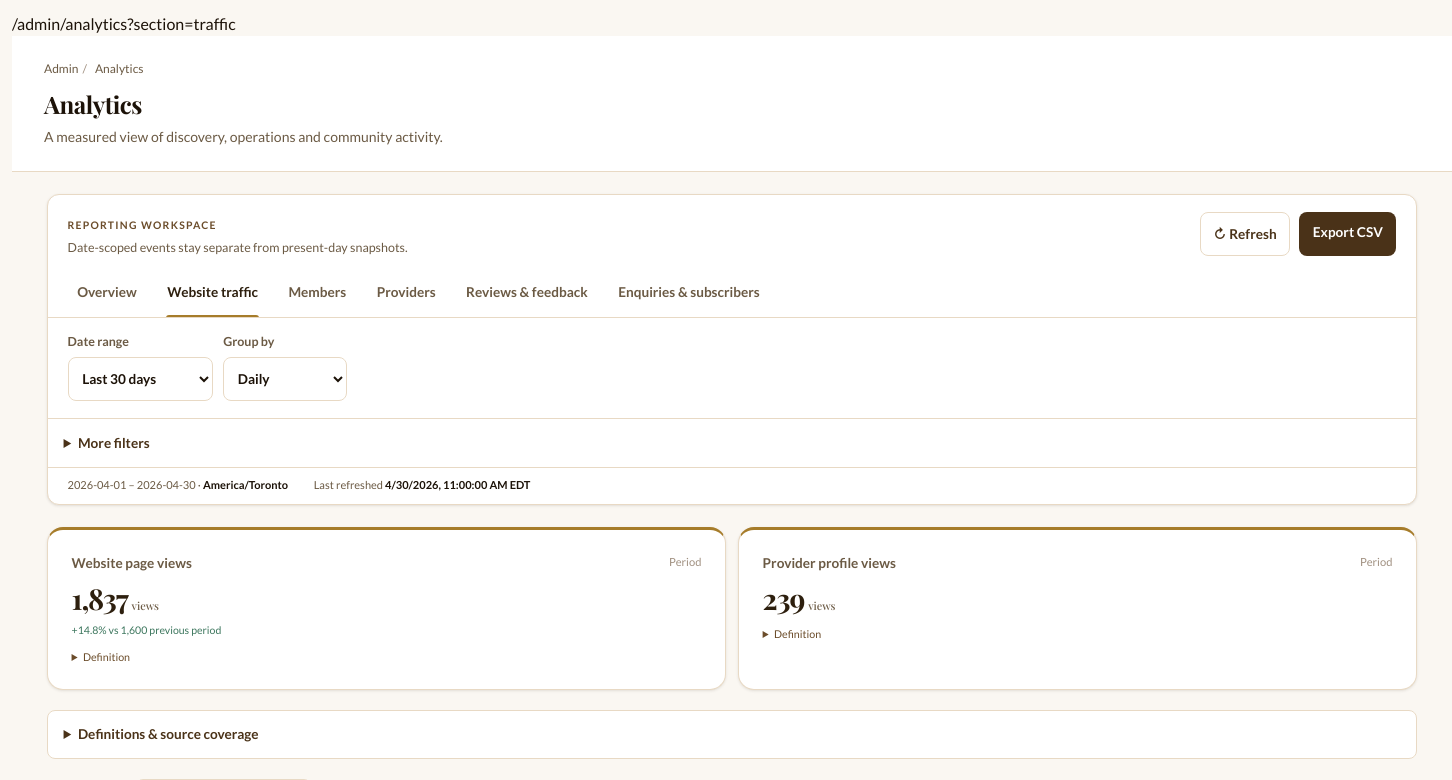
Scenario: AnalyticsPage › recovers from a failed CSV export when the same export is retried
Expected: the text "1,837" is shown, x1=72 y1=579 x2=128 y2=617
Click the heading "Export CSV" at (1348, 234), box x1=1299 y1=212 x2=1396 y2=256
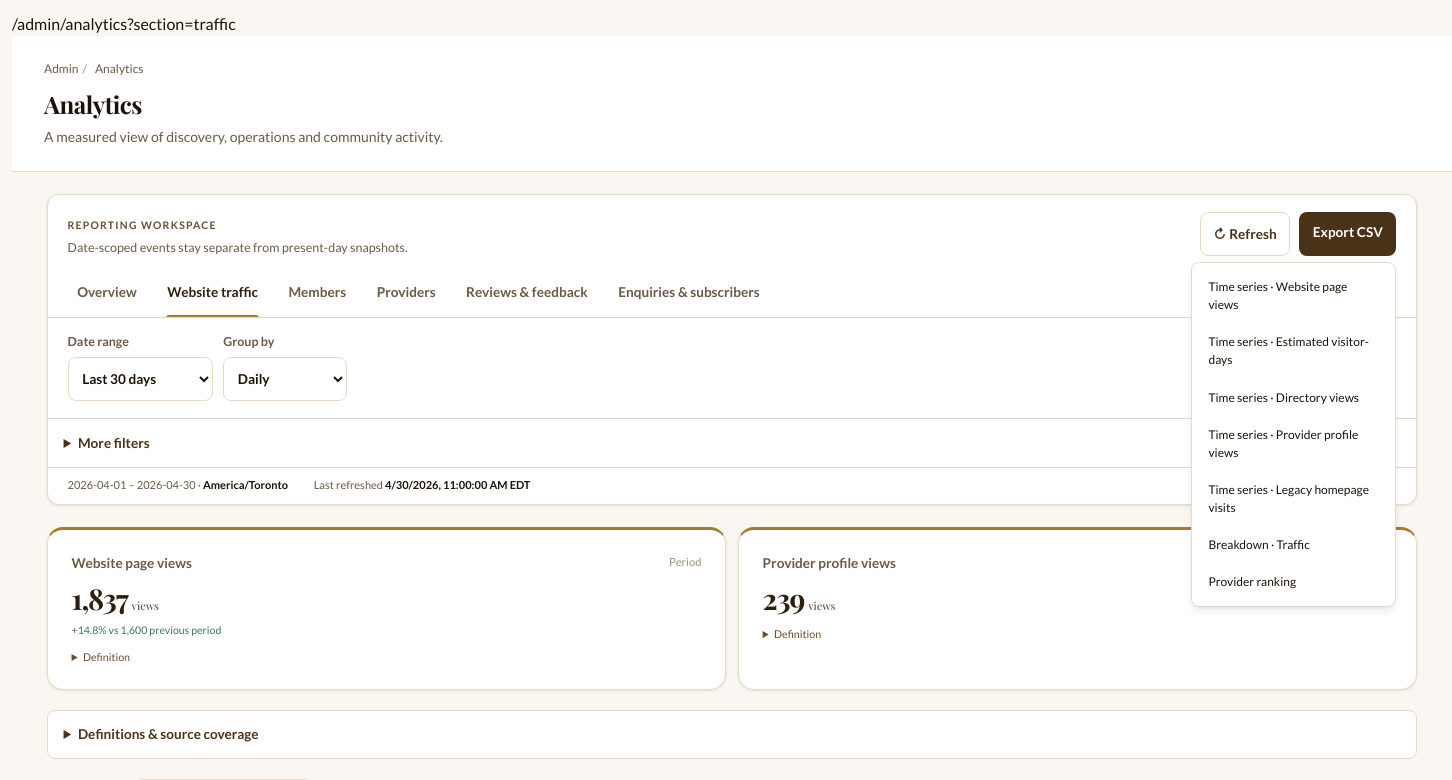
Click the button "Time series · Website page views" at (1294, 296), box x1=1198 y1=268 x2=1390 y2=324
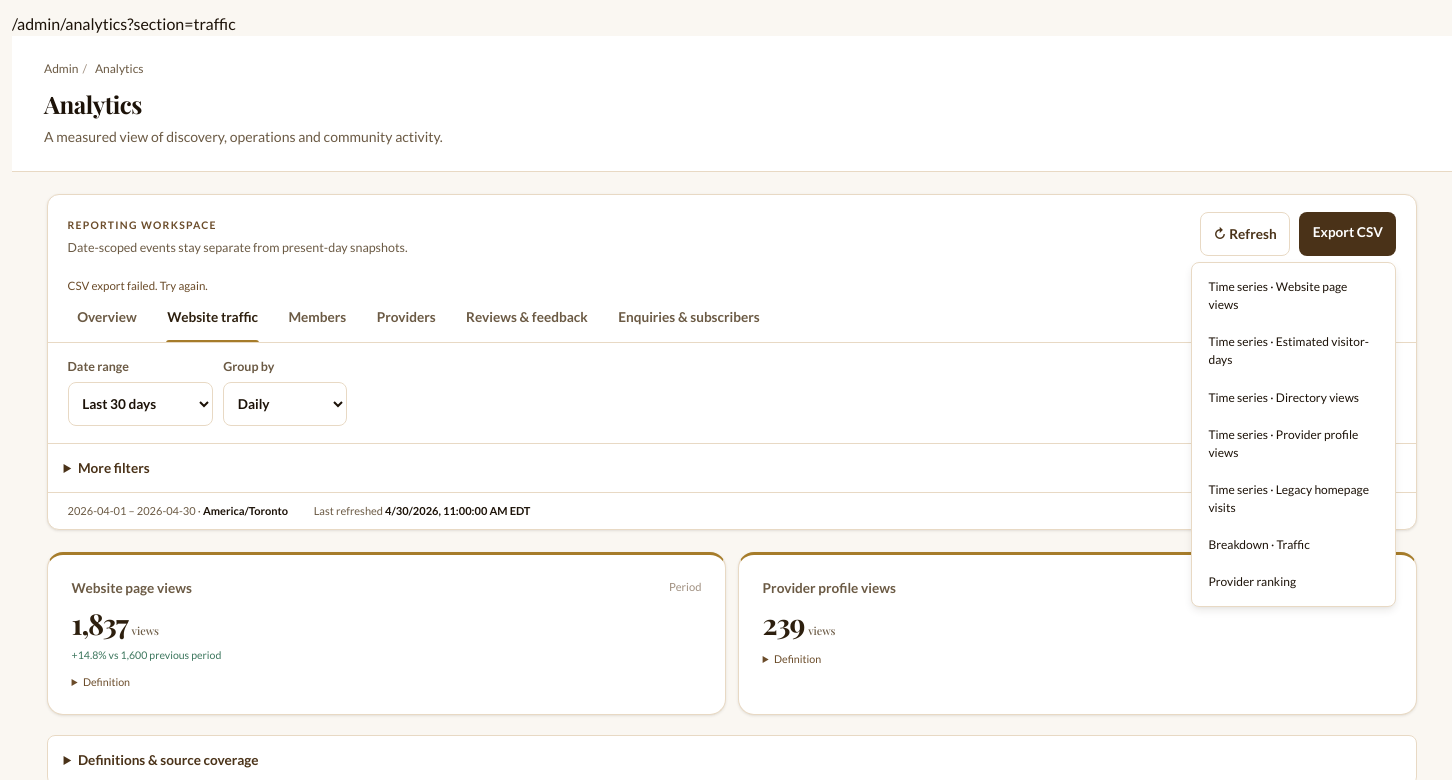
Now the text "CSV export failed. Try again." is shown, box x1=68 y1=279 x2=208 y2=292
Click the button "Time series · Website page views" at (1294, 296), box x1=1198 y1=268 x2=1390 y2=324
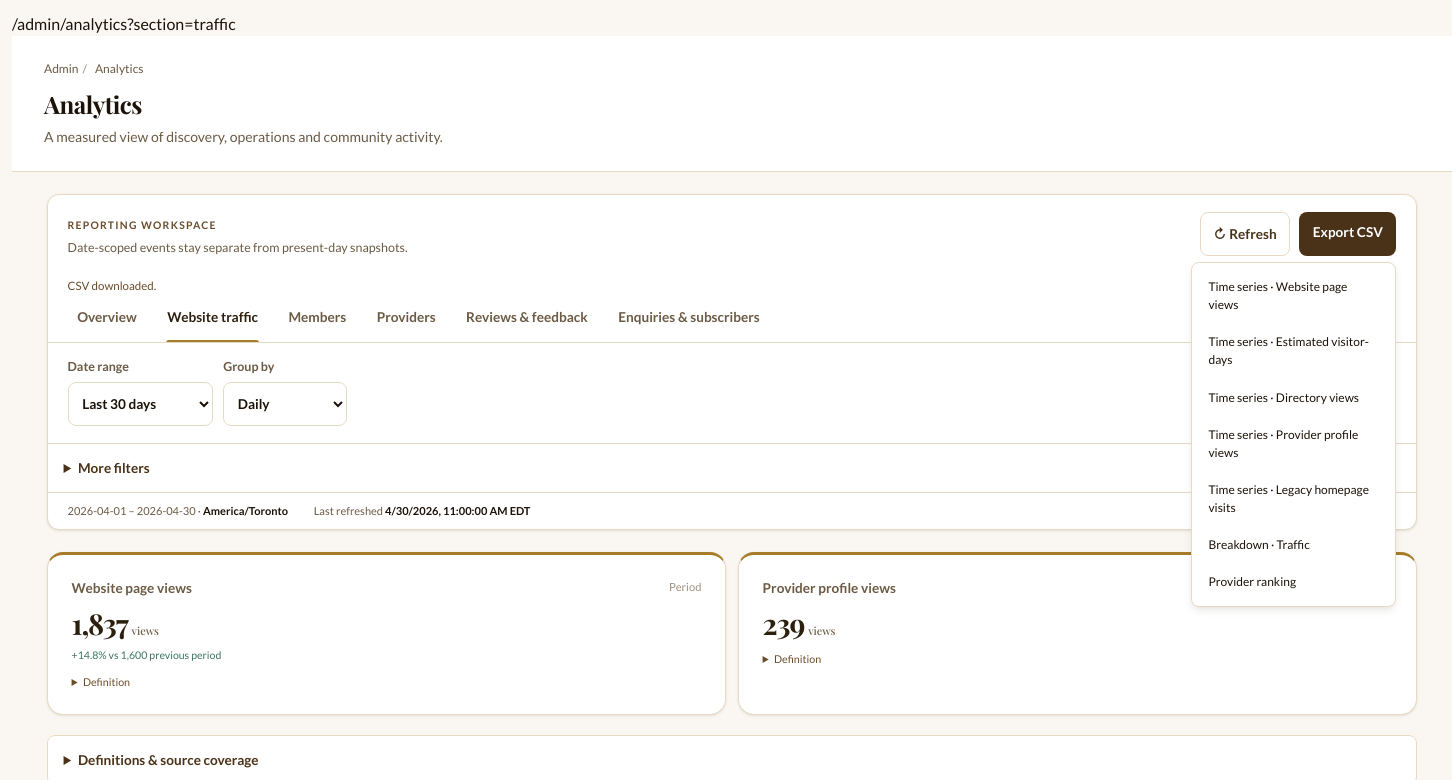
Now the text "CSV downloaded." is shown, box x1=68 y1=279 x2=156 y2=292
